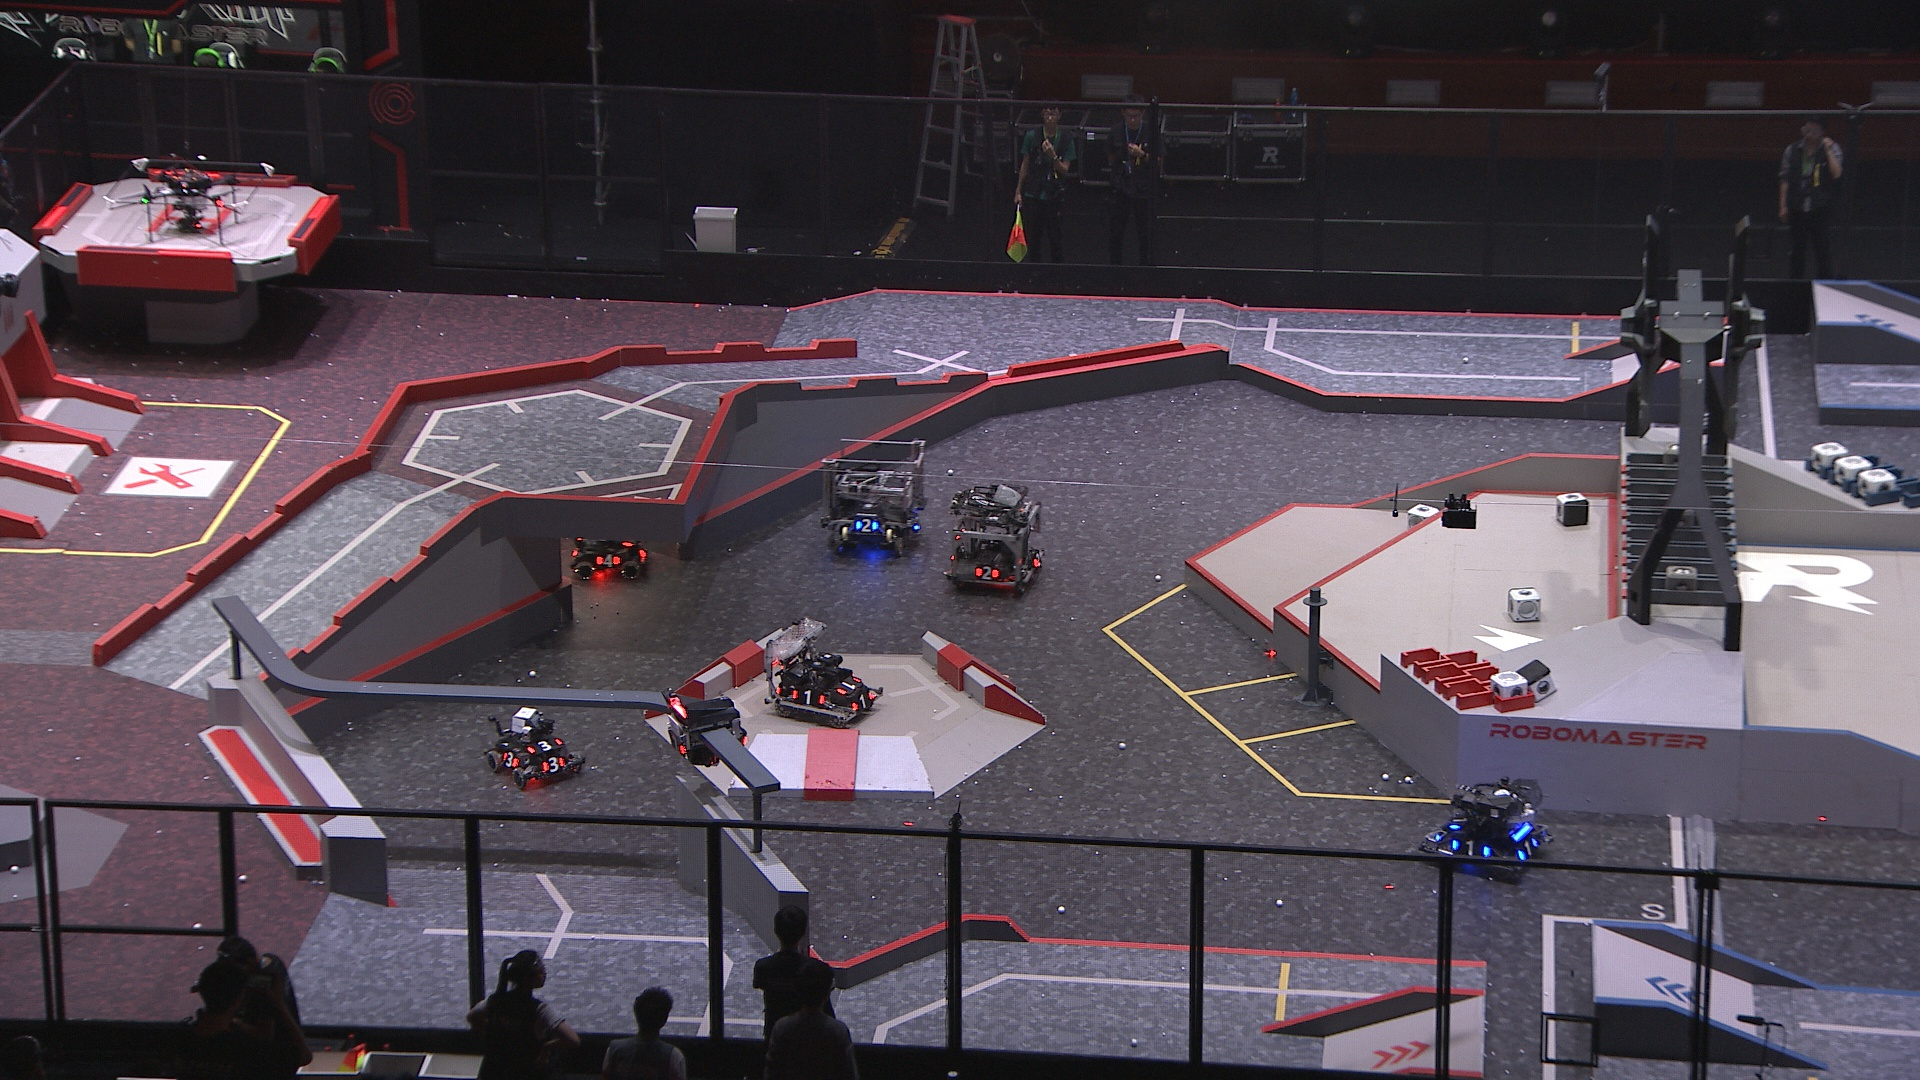armor: (1449, 839, 1493, 858), (524, 737, 564, 756), (665, 728, 690, 757), (789, 688, 825, 707), (1516, 836, 1542, 862), (537, 756, 567, 774), (973, 562, 1000, 583), (593, 553, 622, 570), (852, 694, 877, 712), (500, 746, 520, 769), (852, 520, 882, 534), (835, 676, 860, 694), (1447, 816, 1468, 835), (1031, 550, 1044, 571)
car: (1415, 775, 1551, 884), (820, 438, 932, 560), (764, 616, 884, 725), (942, 480, 1048, 597), (487, 708, 583, 789), (567, 517, 651, 582)
watcher: (659, 690, 749, 770)
